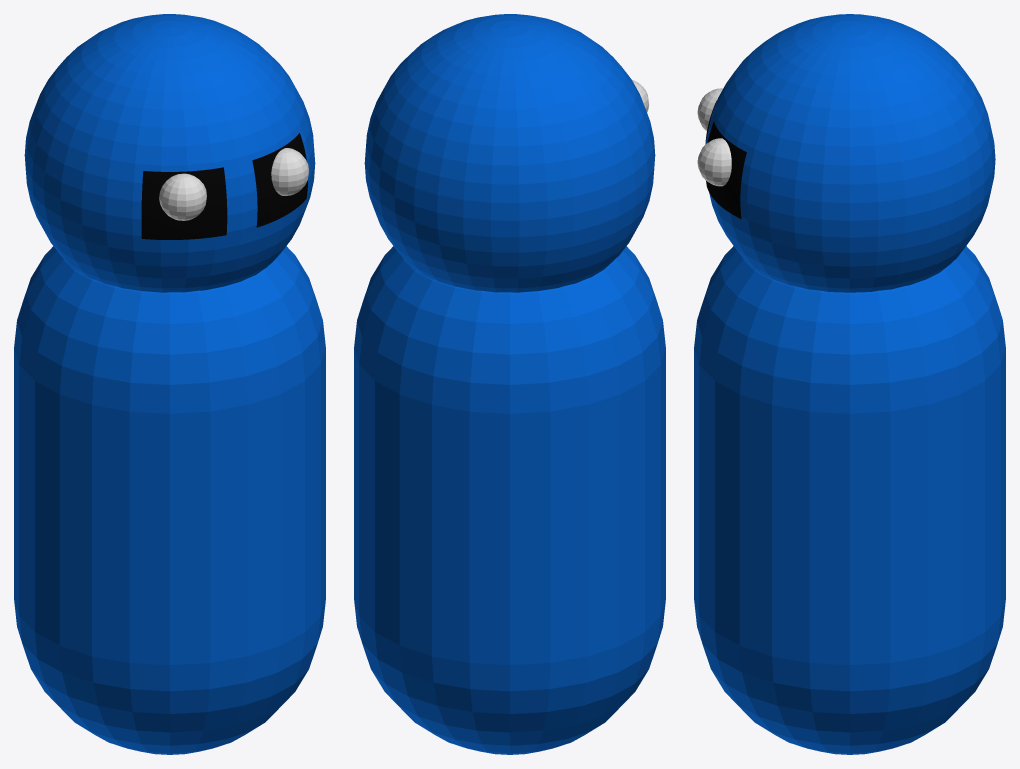
File: character.fbx
3 renders of one model, left to right at view 1: azimuth 30°, elevation 25°; view 2: azimuth 150°, elevation 25°; view 3: azimuth 270°, elevation 25°, orthographic.
Parts seen in each view (by area): view 1: Character; view 2: Character; view 3: Character.
Part boxes in pixels (x1=…): Character: x1=14, y1=14, x2=325, y2=754; Character: x1=354, y1=14, x2=665, y2=754; Character: x1=694, y1=14, x2=1005, y2=754.
Size of the model in its own units: 0.9 by 2.27 by 0.9.
